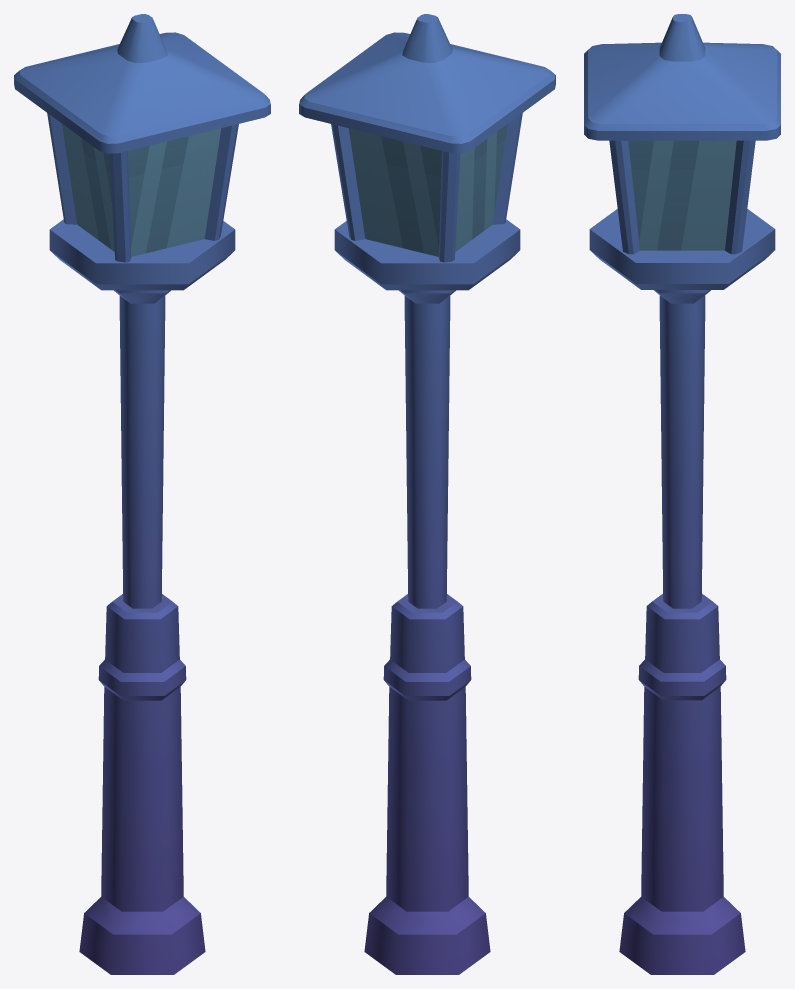
Rendered from StreetLamp_3_B.glb.
The picture shows the model from 3 angles, left to right: view 1: azimuth 30°, elevation 25°; view 2: azimuth 150°, elevation 25°; view 3: azimuth 270°, elevation 25°; orthographic projection.
Visible parts, largest first — view 1: StreetLamp_3_B; view 2: StreetLamp_3_B; view 3: StreetLamp_3_B.
Part boxes in pixels (left/top/right/bottom): StreetLamp_3_B: left=14, top=14, right=270, bottom=974; StreetLamp_3_B: left=299, top=14, right=555, bottom=974; StreetLamp_3_B: left=584, top=14, right=780, bottom=974.
Size of the model in its own units: 0.7408 by 3.88 by 0.7408.
2 materials, 2 textured.
